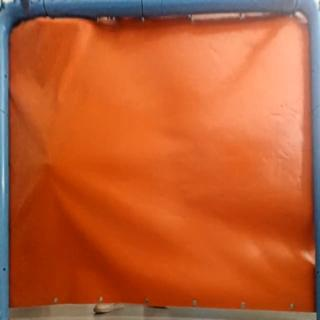Hit-hRxx: (42, 159, 58, 170)
